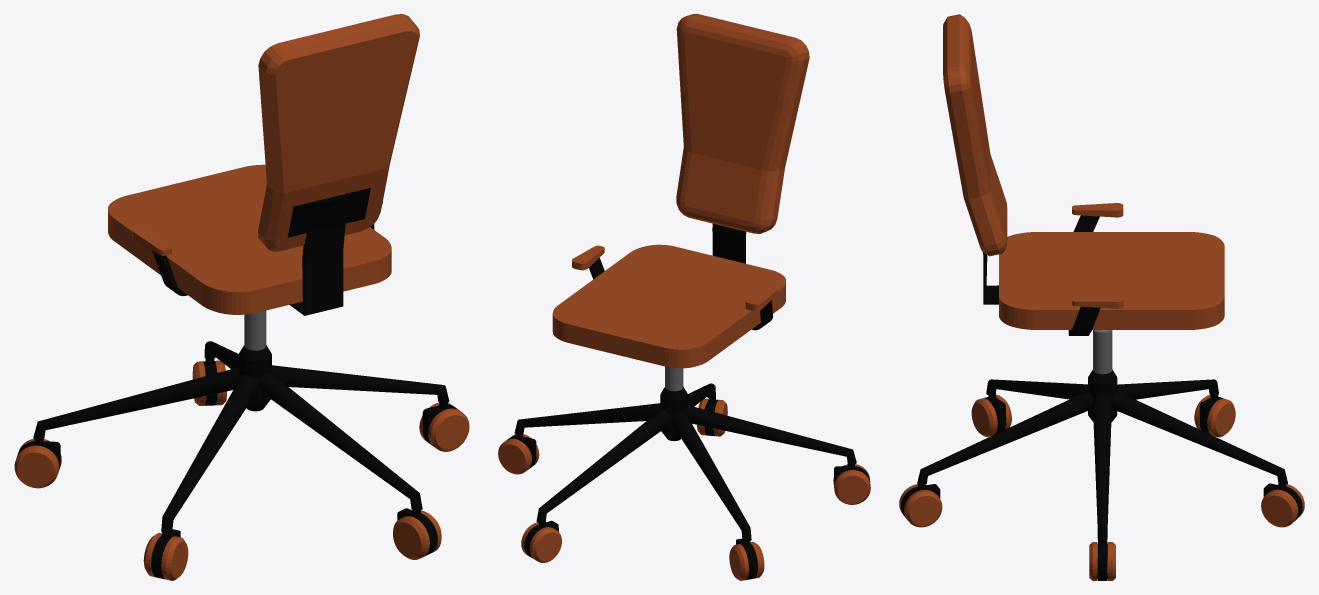
Rendered from chair.glb.
The picture shows the model from 3 angles, left to right: view 1: azimuth 30°, elevation 25°; view 2: azimuth 150°, elevation 25°; view 3: azimuth 270°, elevation 25°; orthographic projection. The views are drawn at different scales.
Visible parts, largest first — view 1: Rugsteun.001, Zitvlak, As, Chair, Wheel.003, Wheel.001, Wheel, Wheel.002, Onderstuk, Buis, Wheel.004, Armrest.002; view 2: Rugsteun.001, Zitvlak, As, Wheel.004, Wheel.002, Wheel, Wheel.001, Chair, Onderstuk, Wheel.003, Armrest.002, Armrest; view 3: Zitvlak, As, Rugsteun.001, Wheel.004, Wheel.003, Wheel.001, Wheel.002, Wheel, Buis, Onderstuk, Armrest, Armrest.002 (+1 smaller).
Part boxes in pixels (x1,y1,x2,y2): Rugsteun.001: (258, 14, 419, 251); Zitvlak: (108, 164, 391, 314); As: (33, 341, 449, 533); Chair: (287, 187, 370, 315); Wheel.003: (393, 508, 441, 559); Wheel.001: (14, 438, 61, 488); Wheel: (419, 402, 469, 451); Wheel.002: (143, 529, 188, 580); Onderstuk: (238, 345, 271, 411); Buis: (244, 310, 266, 350); Wheel.004: (192, 360, 226, 405); Armrest.002: (132, 226, 171, 255); Rugsteun.001: (676, 14, 809, 233); Zitvlak: (552, 244, 785, 368); As: (514, 383, 856, 541); Wheel.004: (521, 520, 561, 562); Wheel.002: (833, 464, 870, 504); Wheel: (498, 434, 539, 474); Wheel.001: (729, 538, 764, 580); Chair: (712, 223, 746, 263); Onderstuk: (660, 387, 687, 440); Wheel.003: (697, 398, 727, 436); Armrest.002: (745, 286, 778, 311); Armrest: (572, 245, 604, 270); Zitvlak: (999, 232, 1224, 329); As: (917, 379, 1287, 540); Rugsteun.001: (943, 14, 1007, 256); Wheel.004: (1261, 483, 1304, 527); Wheel.003: (899, 484, 942, 527); Wheel.001: (1194, 394, 1235, 437); Wheel.002: (971, 394, 1011, 437); Wheel: (1089, 539, 1115, 580); Buis: (1093, 330, 1112, 374); Onderstuk: (1088, 369, 1117, 422); Armrest: (1072, 294, 1123, 308); Armrest.002: (1072, 203, 1123, 217).
Size of the model in its own units: 0.991 by 1.3 by 1.04.
